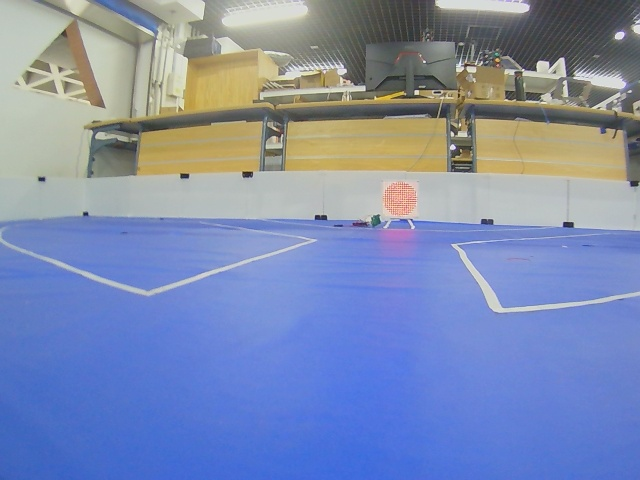red: (382, 181, 418, 218)
